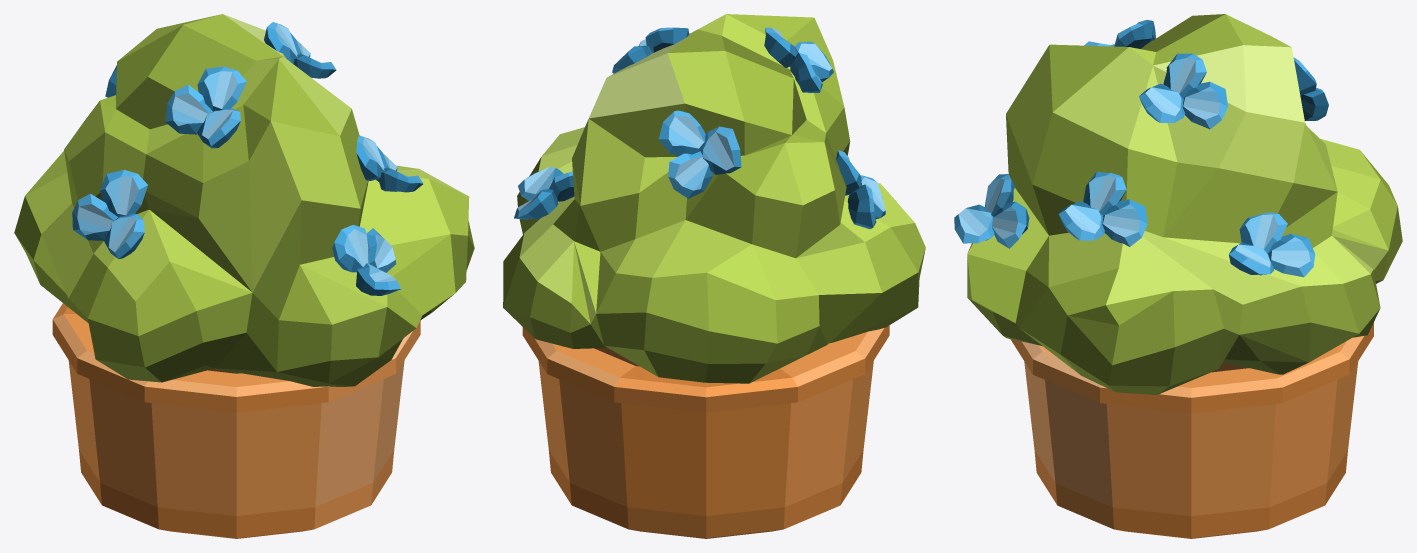
Rendered from BAKE_EXT_L3_FlowerBushPot_03.fbx.
3 renders of one model, left to right at view 1: azimuth 30°, elevation 25°; view 2: azimuth 150°, elevation 25°; view 3: azimuth 270°, elevation 25°, orthographic.
Parts seen in each view (by area): view 1: BAKE_EXT_L3_FlowerBushPot_03; view 2: BAKE_EXT_L3_FlowerBushPot_03; view 3: BAKE_EXT_L3_FlowerBushPot_03.
Part boxes in pixels (<box>): BAKE_EXT_L3_FlowerBushPot_03: <box>14,14,474,538</box>; BAKE_EXT_L3_FlowerBushPot_03: <box>503,14,925,538</box>; BAKE_EXT_L3_FlowerBushPot_03: <box>954,14,1402,538</box>.
Size of the model in its own units: 0.9547 by 1.09 by 0.9843.
